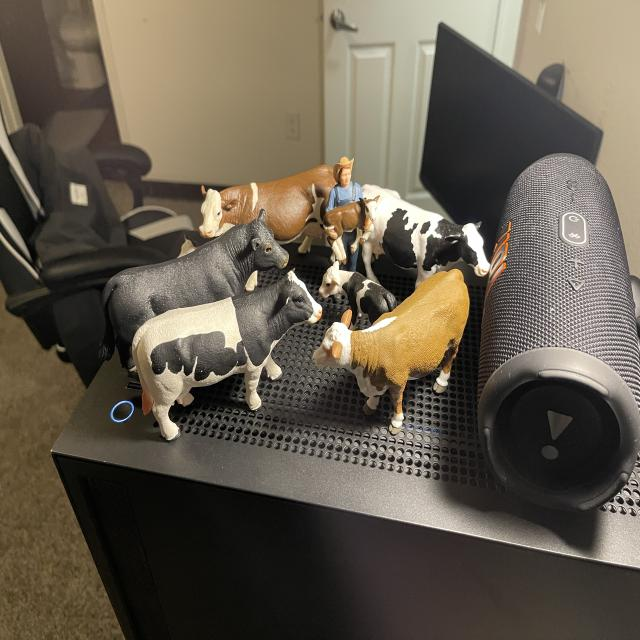cow: (67, 187, 296, 379), (303, 238, 513, 443), (115, 262, 346, 445), (350, 184, 498, 296), (193, 163, 347, 251), (309, 249, 401, 341), (313, 183, 378, 246)
person: (316, 155, 365, 211)
